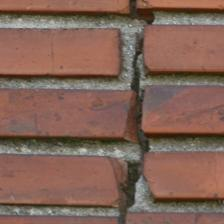Crack: (58, 13, 98, 205)
